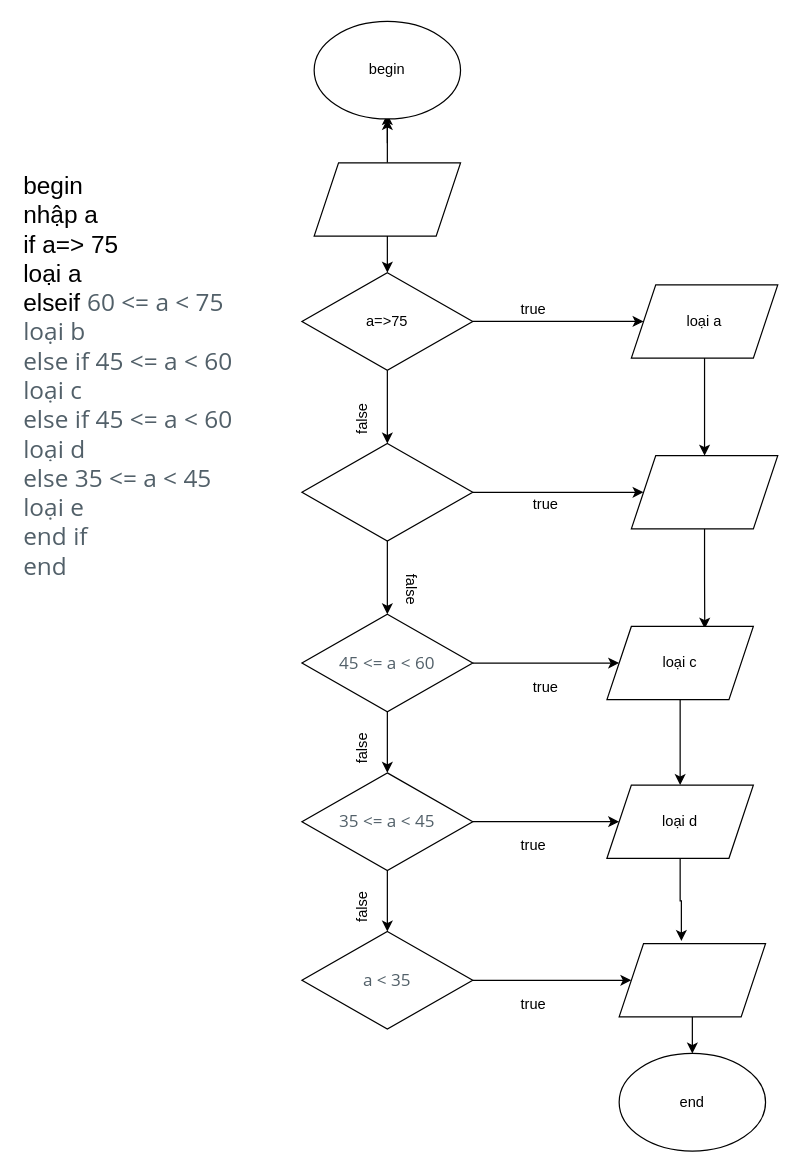
Image size: 799x1172. Some labels were removed from this diagram. Here are the shapes that lost their labels. From the top down, the centre of each, then its label:
[387,199]: nhập a
[387,491]: 60 <= a < 75
[704,491]: loại b
[692,979]: loại e
